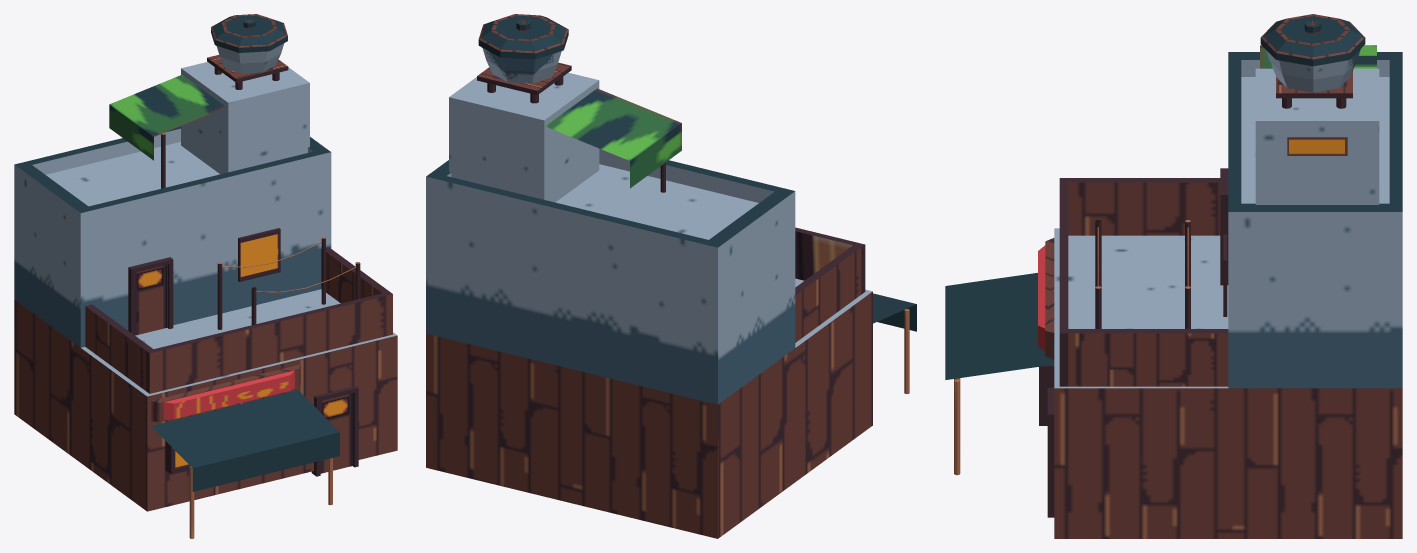
The model's file is Casa2_Erick_2608.fbx.
3 renders of one model, left to right at view 1: azimuth 30°, elevation 25°; view 2: azimuth 150°, elevation 25°; view 3: azimuth 270°, elevation 25°, orthographic. The views are drawn at different scales.
Parts seen in each view (by area): view 1: Casa2; view 2: Casa2; view 3: Casa2.
Boxes of the visible parts, x1,y1,x2,y2 form: Casa2: (14,14,397,538); Casa2: (426,14,916,538); Casa2: (945,14,1402,538).
Bounding box in the file's own units: 613 × 740 × 873.
